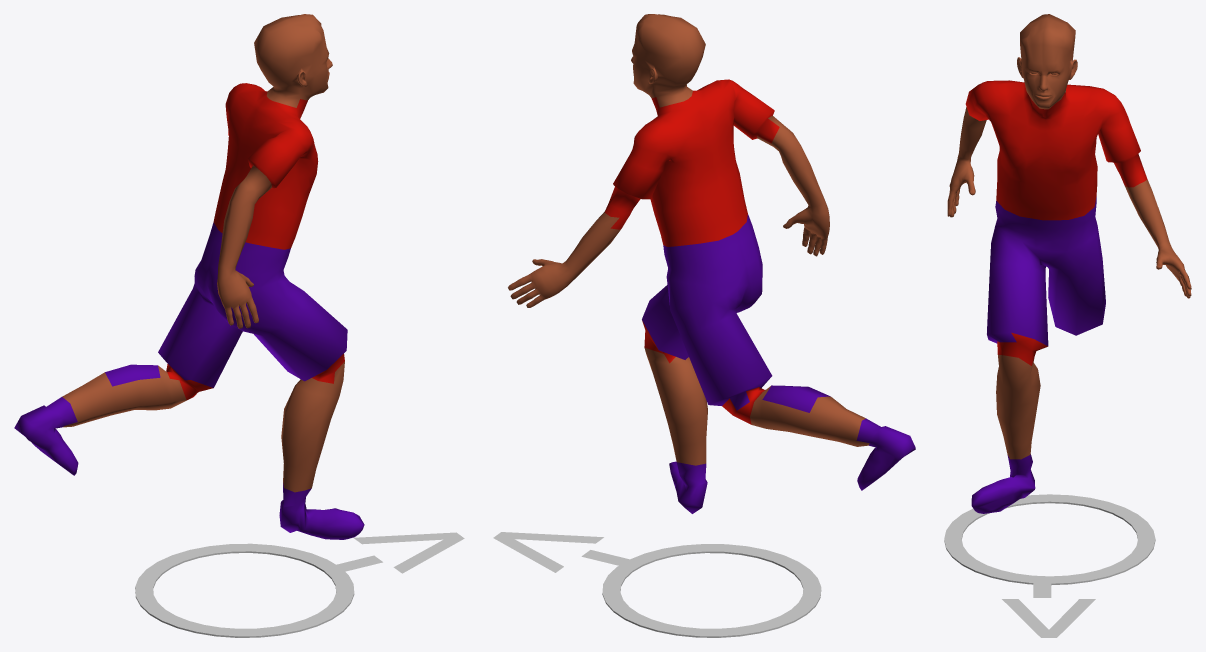
Rendered from player_000014.obj.
3 renders of one model, left to right at view 1: azimuth 30°, elevation 25°; view 2: azimuth 150°, elevation 25°; view 3: azimuth 270°, elevation 25°, orthographic. The views are drawn at different scales.
Visible parts, largest first — view 1: soccerplayer.002_mesh.003, Circle, Text.001_Mesh.001; view 2: soccerplayer.002_mesh.003, Circle, Text.001_Mesh.001; view 3: soccerplayer.002_mesh.003, Circle, Text.001_Mesh.001.
Part boxes in pixels (x1,y1,x2,y2): soccerplayer.002_mesh.003: (14, 14, 364, 539); Circle: (135, 543, 354, 637); Text.001_Mesh.001: (332, 532, 464, 573); soccerplayer.002_mesh.003: (508, 14, 915, 513); Circle: (602, 544, 821, 637); Text.001_Mesh.001: (493, 532, 632, 572); soccerplayer.002_mesh.003: (947, 14, 1191, 513); Circle: (944, 494, 1155, 585); Text.001_Mesh.001: (1002, 578, 1095, 637).
Size of the model in its own units: 2.45 by 3.07 by 1.27.
